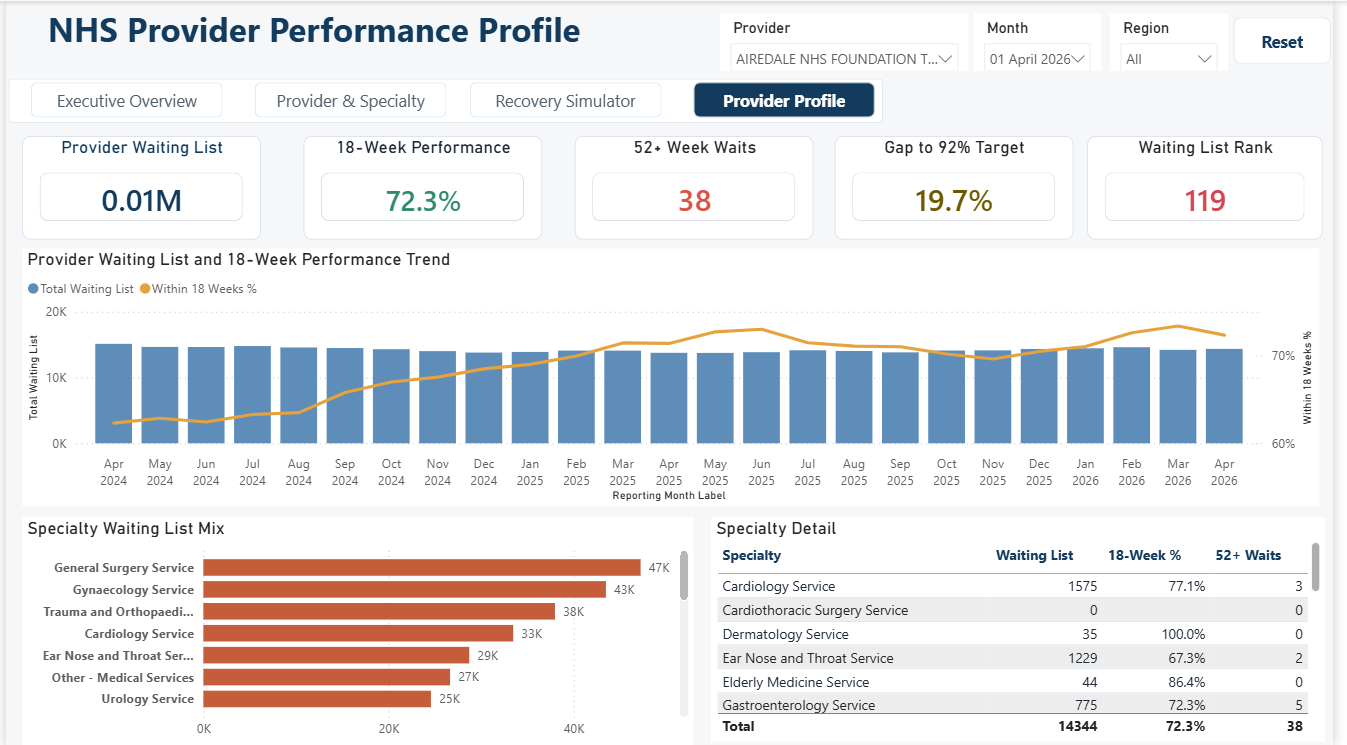

The page's visual inventory and layout, read from the dashboard file:
{"tool":"powerbi","page":{"name":"Provider Profile","canvas":[1280,720],"ordinal":3},"visuals":[{"type":"shape","box":[3,75,844,43],"z":0},{"type":"textbox","box":[0,0,600,53],"z":1000},{"type":"actionButton","box":[24,79,185,34],"z":2000},{"type":"actionButton","box":[240,79,185,34],"z":3000},{"type":"actionButton","box":[448,79,185,34],"z":4000},{"type":"actionButton","box":[663,79,175,34],"z":5000},{"type":"slicer","fields":{"Values":["Dim_Date.Reporting_Month"]},"box":[934,12,123,55],"z":6000},{"type":"slicer","fields":{"Values":["Dim_Provider.Region_Code"]},"box":[1065,12,114,55],"z":7000},{"type":"actionButton","box":[1185,16,94,45],"z":8000},{"type":"cardVisual","title":"18-Week Performance","fields":{"Data":["_Measures.Within 18 Weeks %"]},"box":[287,130,230,100],"z":9000},{"type":"cardVisual","title":"52+ Week Waits","fields":{"Data":["_Measures.52+ Week Waits"]},"box":[549,130,230,100],"z":10000},{"type":"cardVisual","title":"Gap to 92% Target","fields":{"Data":["_Measures.Gap to 92% Target"]},"box":[800,130,230,100],"z":11000},{"type":"cardVisual","title":"Waiting List Rank","fields":{"Data":["_Measures.Provider Waiting List Rank Card"]},"box":[1044,130,227,100],"z":12000},{"type":"slicer","fields":{"Values":["Dim_Provider.Provider_Name"]},"box":[689,12,240,55],"z":13000},{"type":"cardVisual","title":"Provider Waiting List","fields":{"Data":["_Measures.Total Waiting List"]},"box":[16,130,230,100],"z":14000},{"type":"lineClusteredColumnComboChart","title":"Provider Waiting List and 18-Week Performance Trend","fields":{"Y":["_Measures.Total Waiting List"],"Y2":["_Measures.Within 18 Weeks %"],"Category":["Dim_Date.Reporting Month Label"]},"box":[16,239,1252,249],"z":15000},{"type":"clusteredBarChart","title":"Specialty Waiting List Mix","fields":{"Category":["Dim_Specialty.Treatment_Function"],"Y":["_Measures.Specialty Waiting List"]},"box":[16,498,648,222],"z":16000},{"type":"tableEx","title":"Specialty Detail","fields":{"Values":["Dim_Specialty.Treatment_Function","_Measures.Specialty Waiting List","_Measures.Specialty Within 18 Weeks %","_Measures.Specialty 52+ Waits"]},"box":[680,498,593,217],"z":17000}]}

Visuals, with their boxes in screenshot pixels (x1, y1, x2, y2), scaled from the page's 1280x720 canvas onto the 1347x745 screenshot:
shape: <region>3, 78, 891, 122</region>
textbox: <region>0, 0, 631, 55</region>
actionButton: <region>25, 82, 220, 117</region>
actionButton: <region>253, 82, 447, 117</region>
actionButton: <region>471, 82, 666, 117</region>
actionButton: <region>698, 82, 882, 117</region>
slicer - Dim_Date.Reporting_Month: <region>983, 12, 1112, 69</region>
slicer - Dim_Provider.Region_Code: <region>1121, 12, 1241, 69</region>
actionButton: <region>1247, 17, 1346, 63</region>
"18-Week Performance" cardVisual: <region>302, 135, 544, 238</region>
"52+ Week Waits" cardVisual: <region>578, 135, 820, 238</region>
"Gap to 92% Target" cardVisual: <region>842, 135, 1084, 238</region>
"Waiting List Rank" cardVisual: <region>1099, 135, 1338, 238</region>
slicer - Dim_Provider.Provider_Name: <region>725, 12, 978, 69</region>
"Provider Waiting List" cardVisual: <region>17, 135, 259, 238</region>
"Provider Waiting List and 18-Week Performance Trend" lineClusteredColumnComboChart: <region>17, 247, 1334, 505</region>
"Specialty Waiting List Mix" clusteredBarChart: <region>17, 515, 699, 744</region>
"Specialty Detail" tableEx: <region>716, 515, 1340, 740</region>
